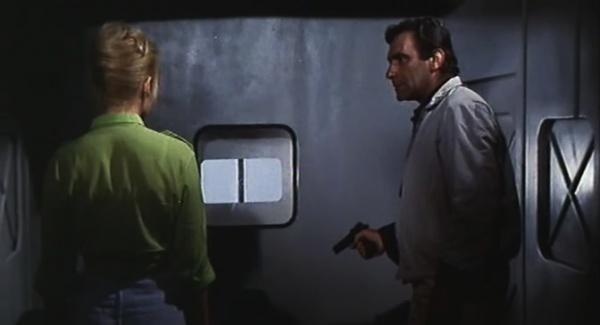Gun: (332, 220, 379, 260)
